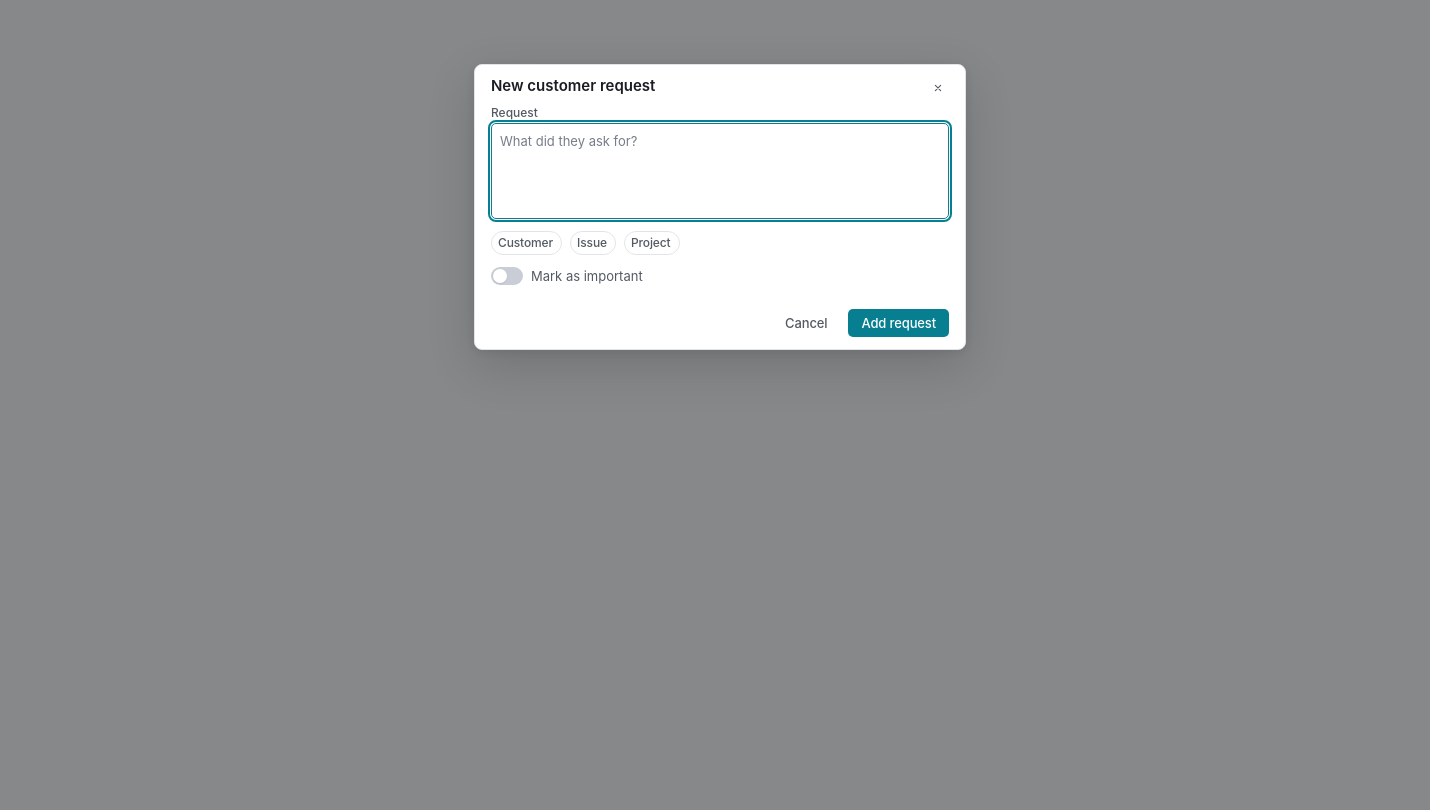
Test: CreateCustomerRequestModal discard guard › asks instead of closing when there is a request written
The image size is (1440, 810).
Type "SSO with Okta please." into the text box labelled "Request" at {"x": 720, "y": 171}, box [491, 123, 949, 219]
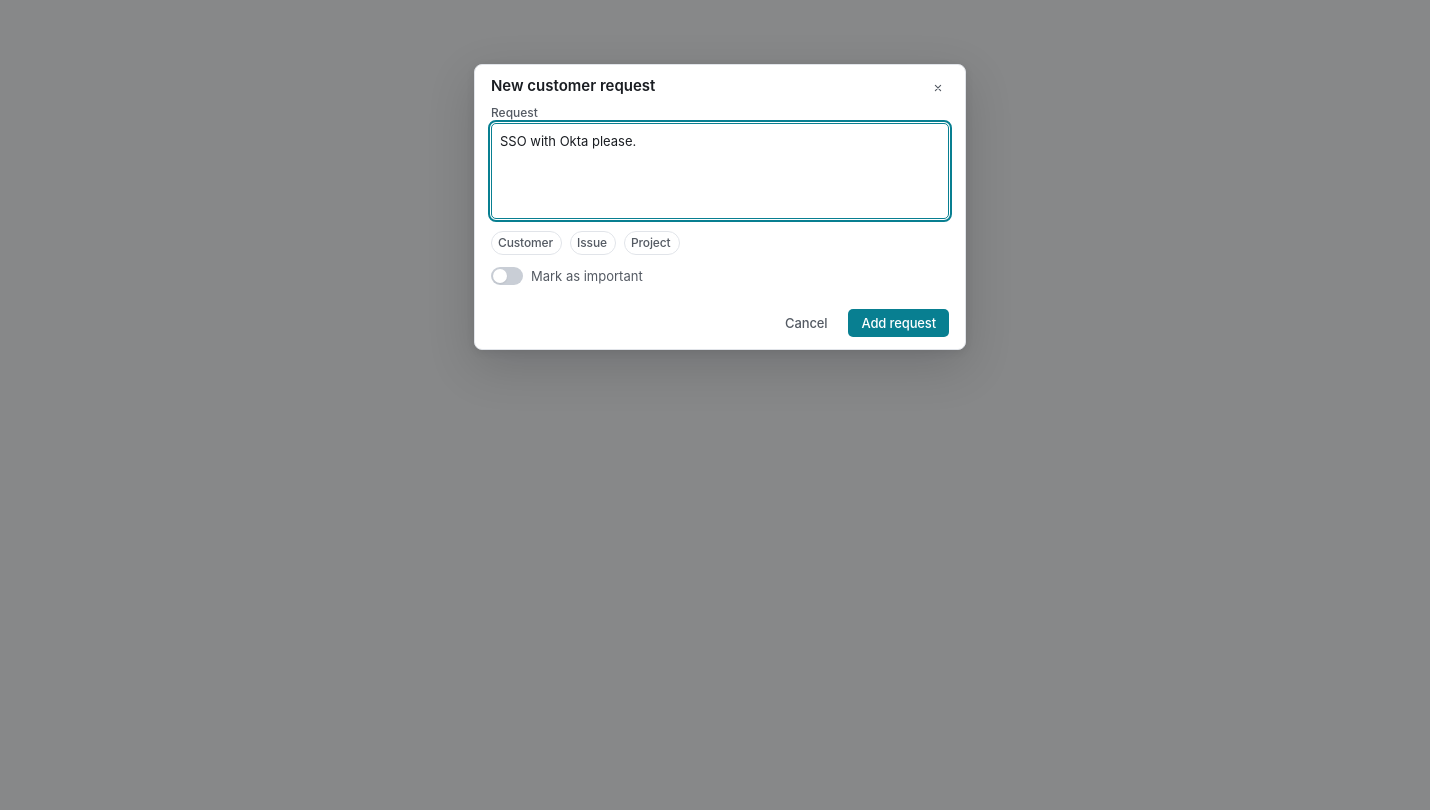
Press Escape
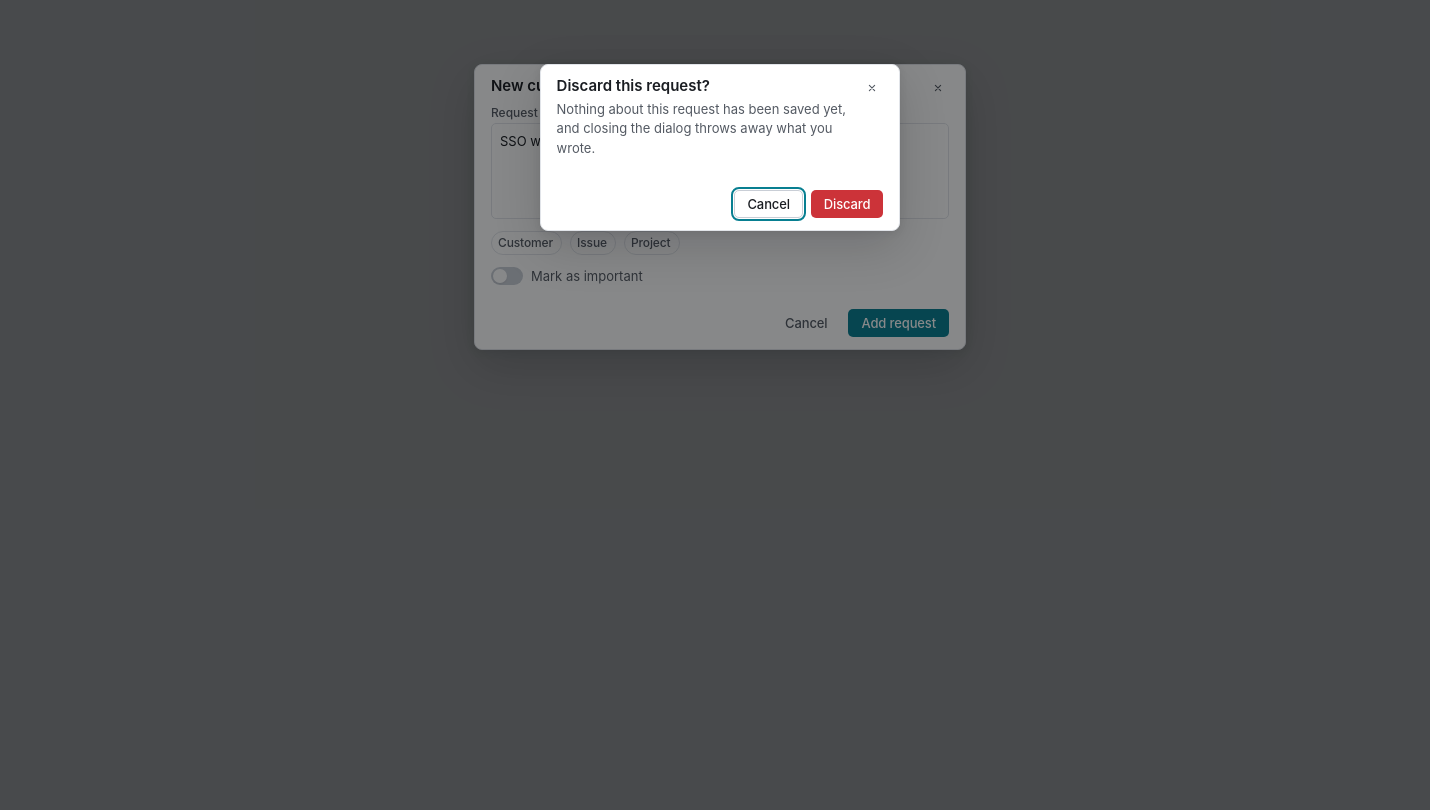
Result: the dialog "Discard this request?" is shown at [540, 64, 900, 231]
